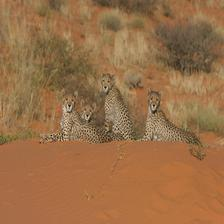Cheetah: (37, 89, 111, 143), (140, 88, 203, 145), (97, 72, 138, 141), (83, 102, 112, 140)
